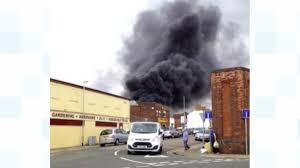smoke: (128, 13, 214, 100)
